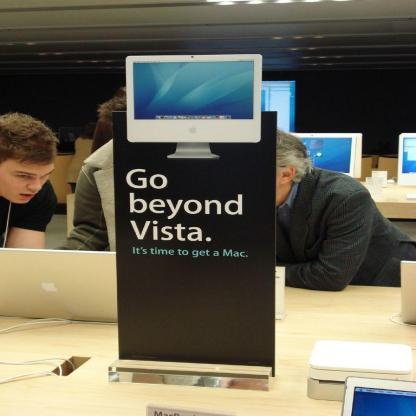board: (0, 251, 114, 321), (400, 260, 416, 325)
